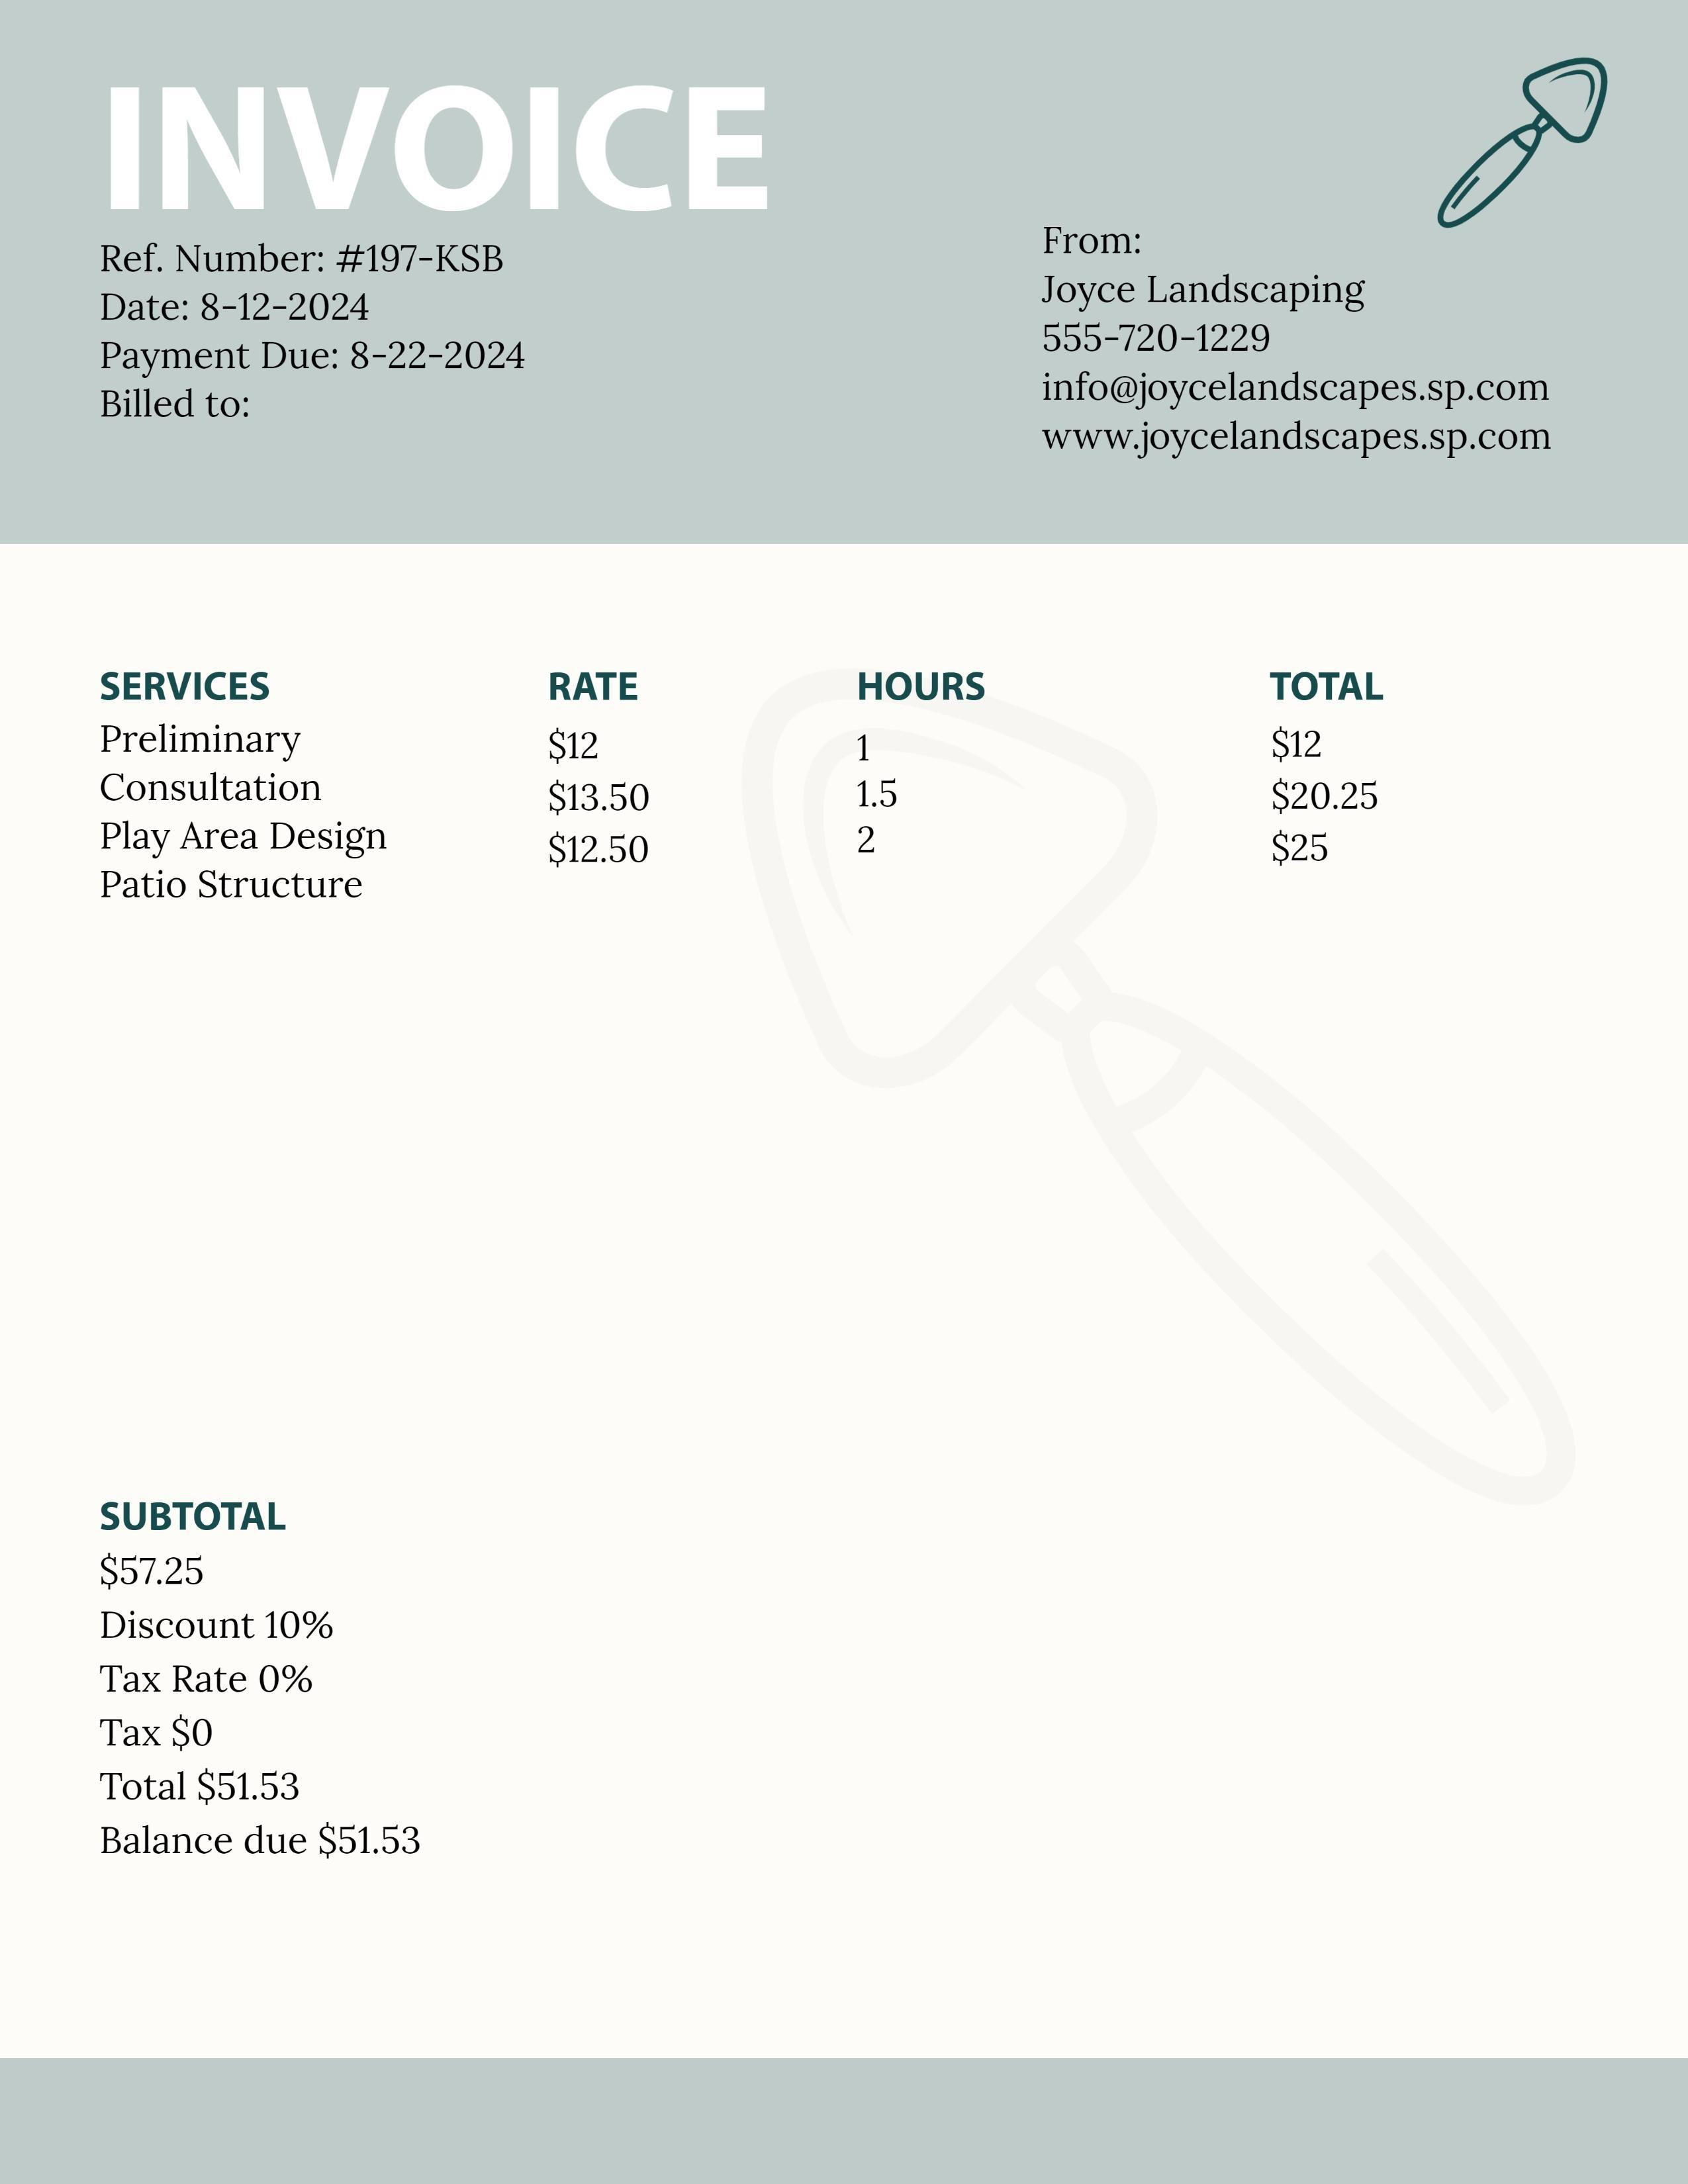ROI: (57, 650, 1430, 923), (69, 1457, 436, 1897), (988, 205, 1577, 472), (71, 226, 569, 375), (77, 389, 610, 524)
